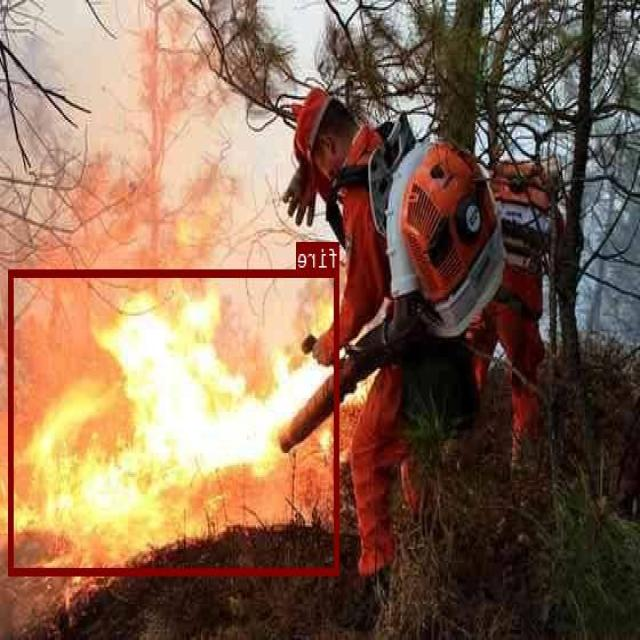fire: (9, 268, 340, 574)
